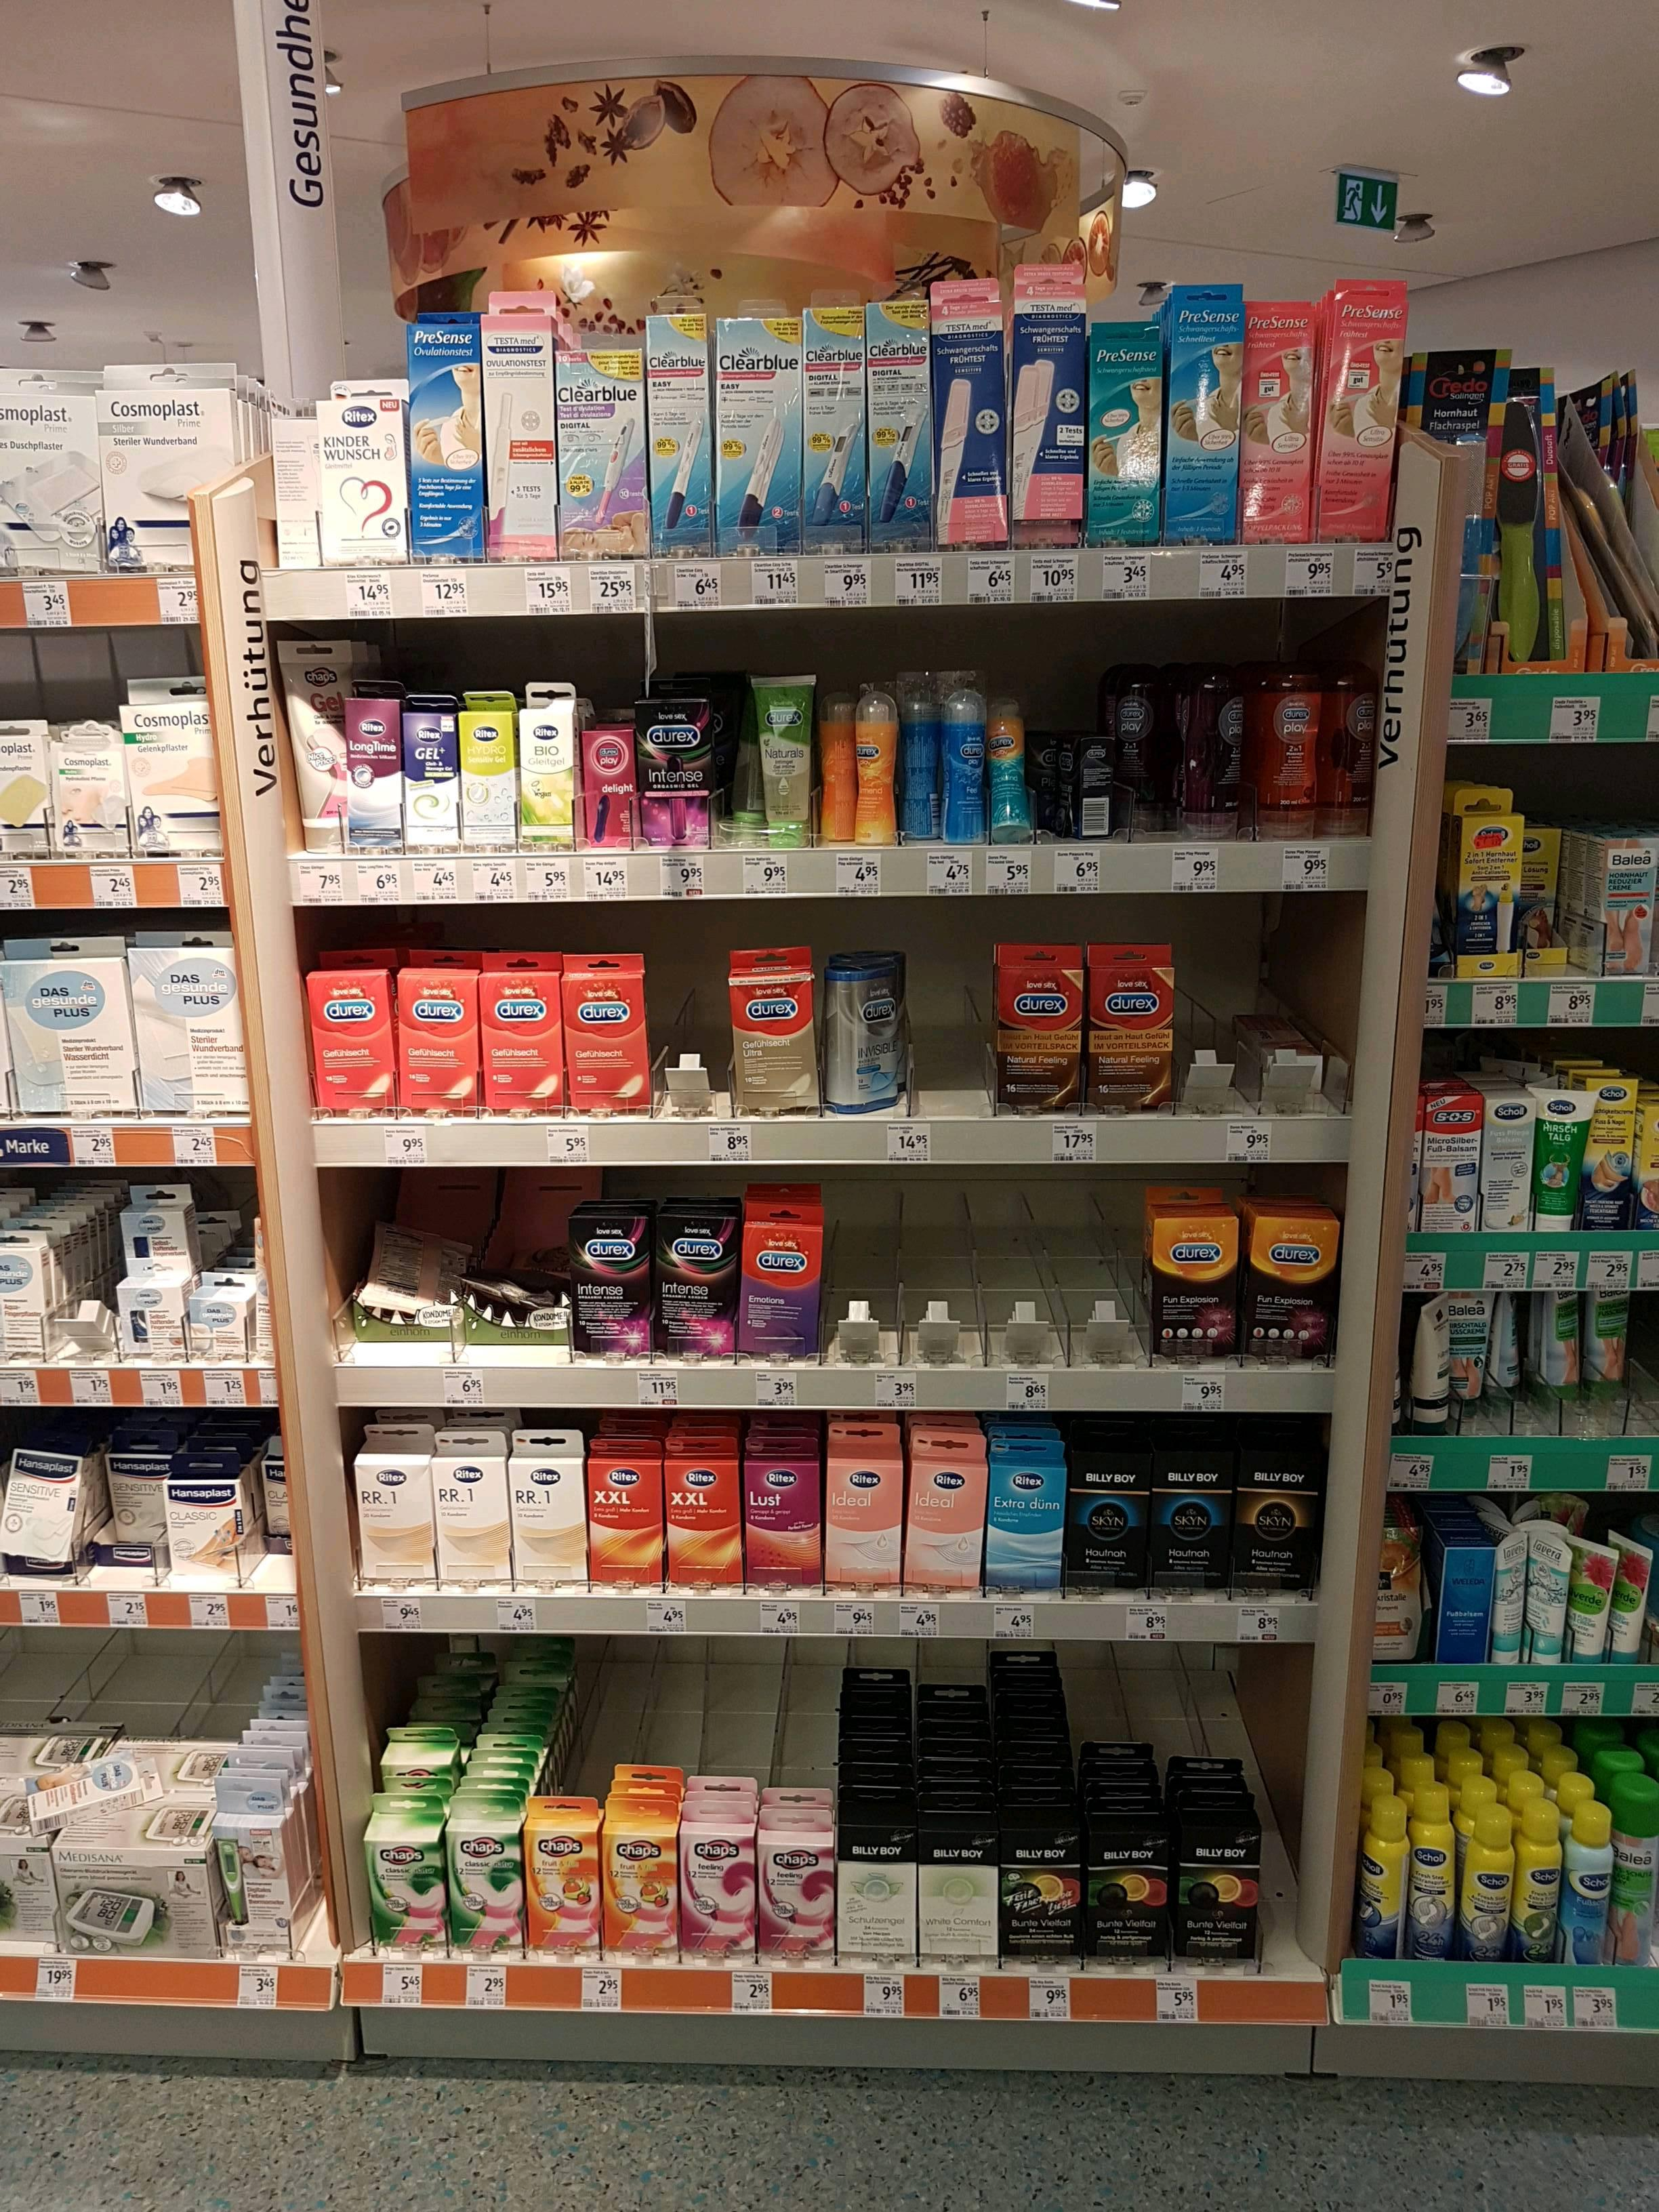misalignment: (1579, 385, 1652, 664), (359, 1197, 460, 1327), (467, 1219, 568, 1341), (1225, 1005, 1333, 1096), (26, 1768, 160, 1825), (1060, 725, 1112, 846), (985, 685, 1025, 843), (1413, 1299, 1448, 1423), (1492, 1287, 1527, 1399)
